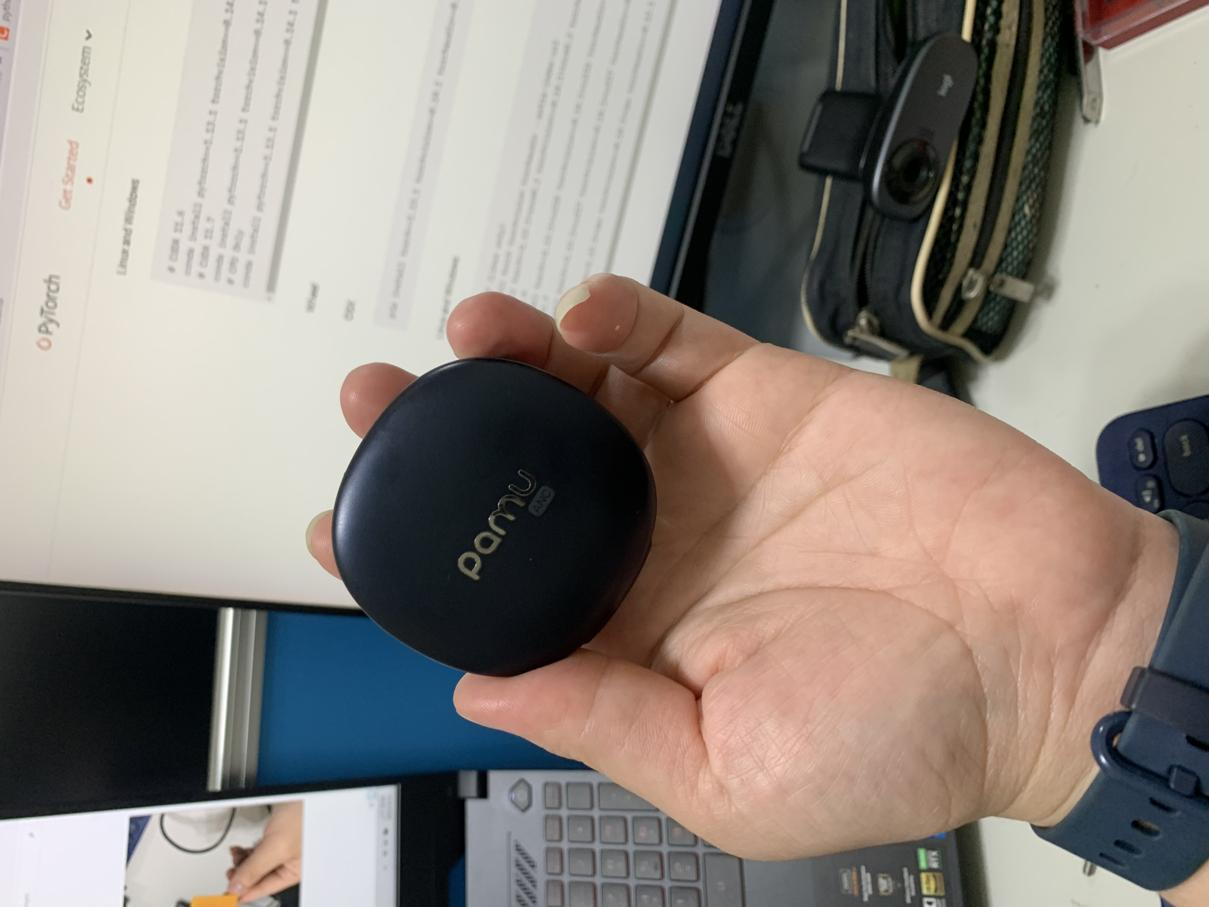pami: (313, 359, 659, 678)
